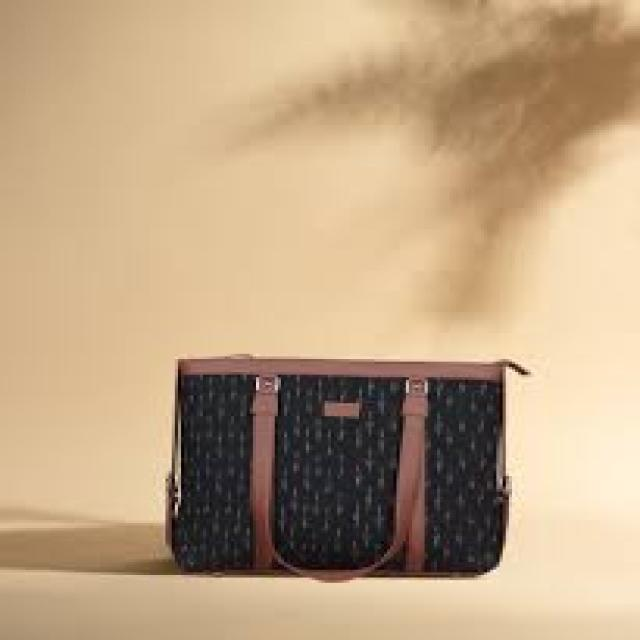handbag: (162, 351, 528, 578)
